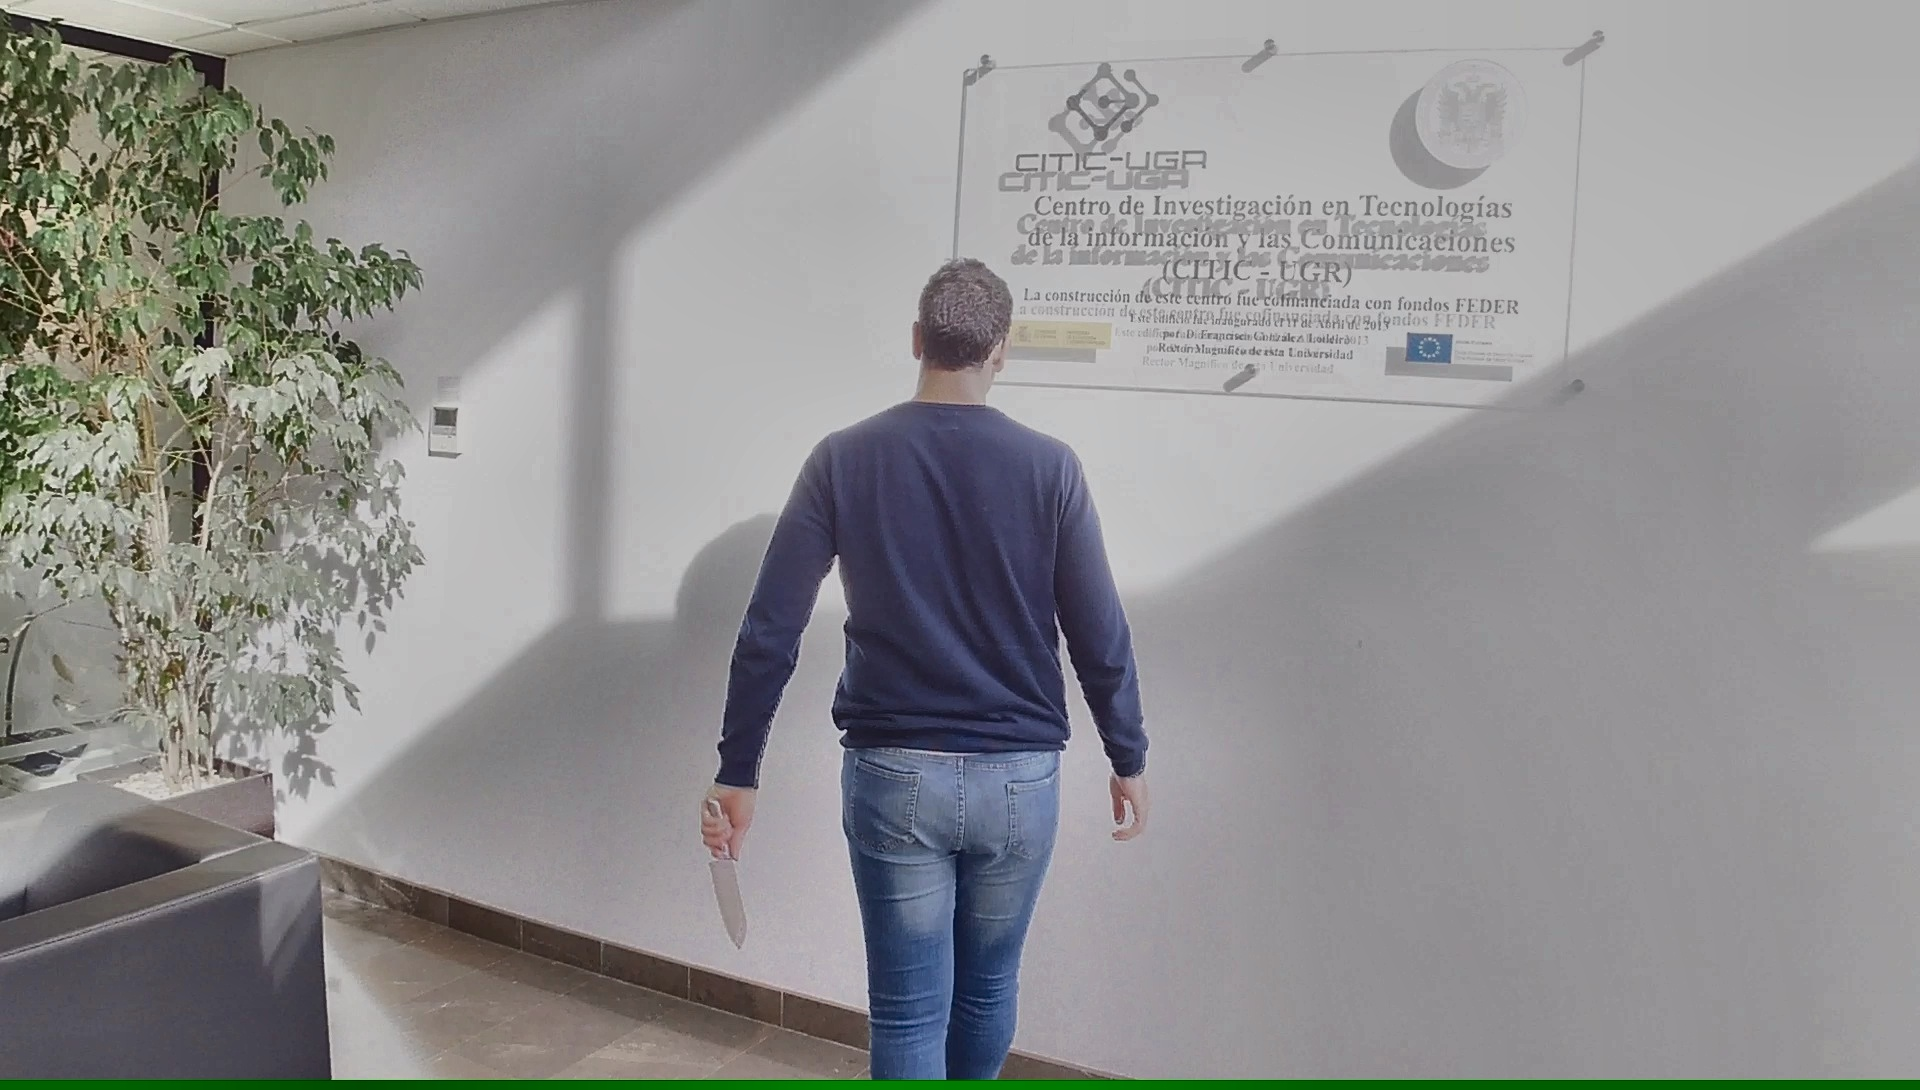knife: (688, 792, 767, 956)
